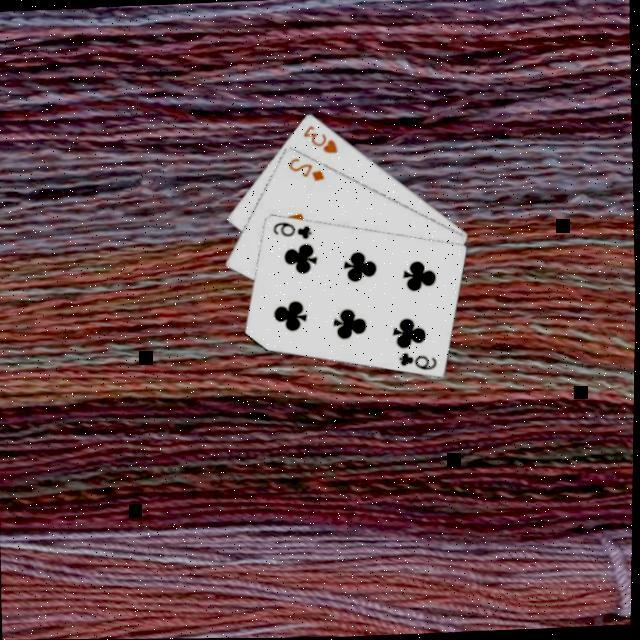2D: (287, 152, 330, 183)
3H: (301, 121, 342, 156)
6C: (271, 216, 316, 242), (397, 346, 442, 372)
